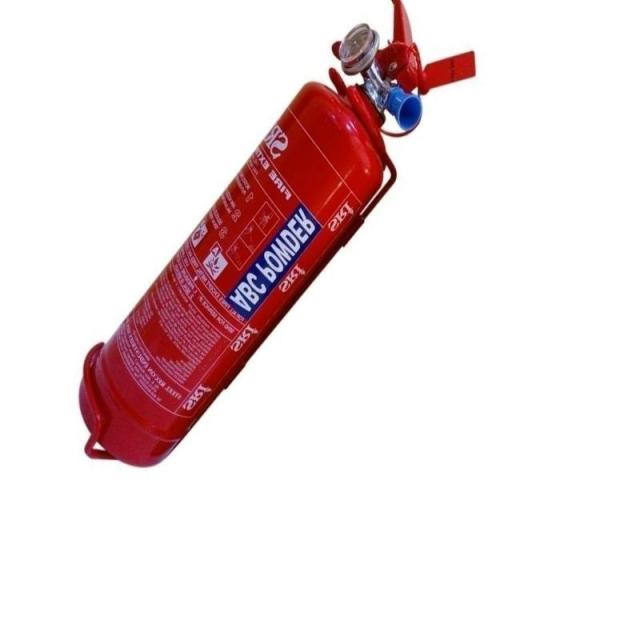fire_extinguisher: (72, 0, 482, 471)
